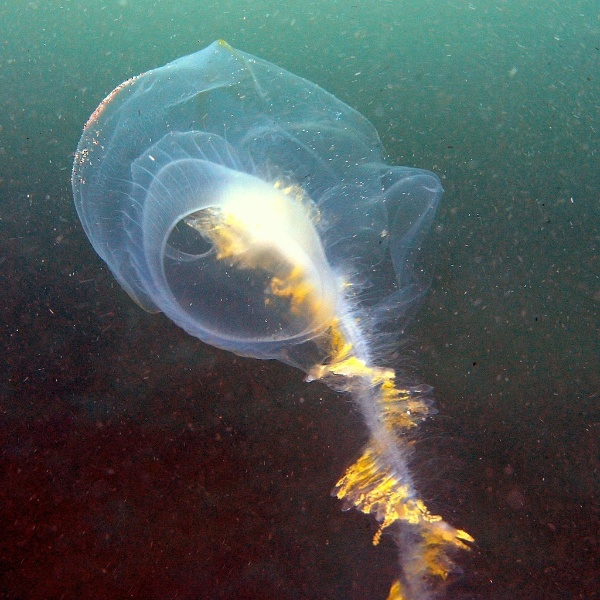Jellyfish: (68, 38, 473, 599)
